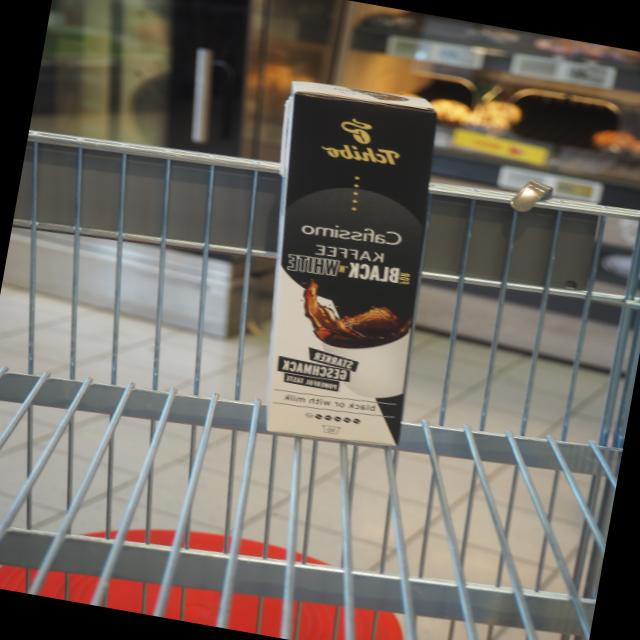Simo Kaffee BW: (262, 85, 443, 451)
